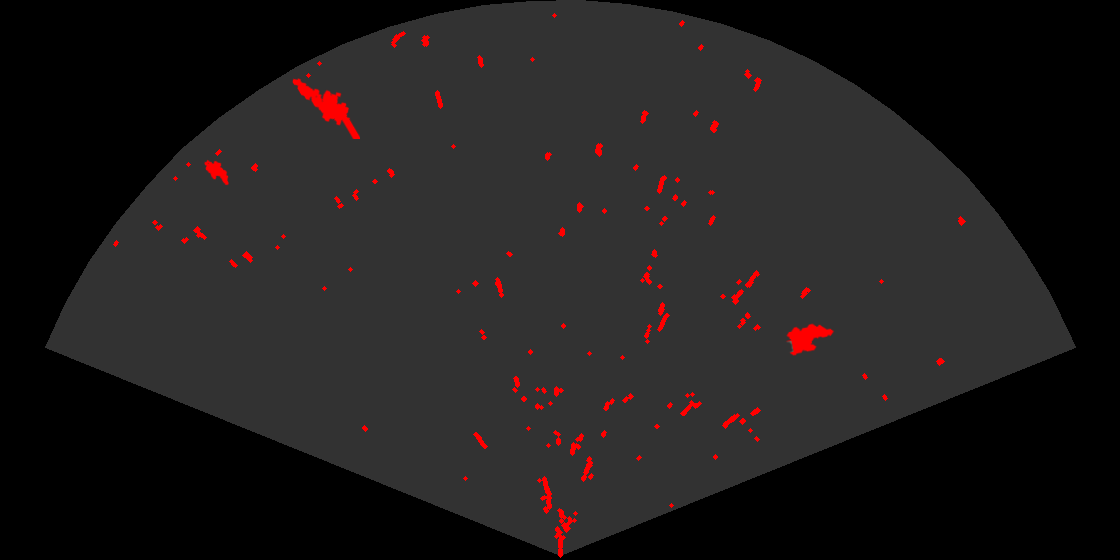AUV: (785, 322, 836, 357), (203, 158, 231, 187)
frogman: (291, 77, 360, 139)
